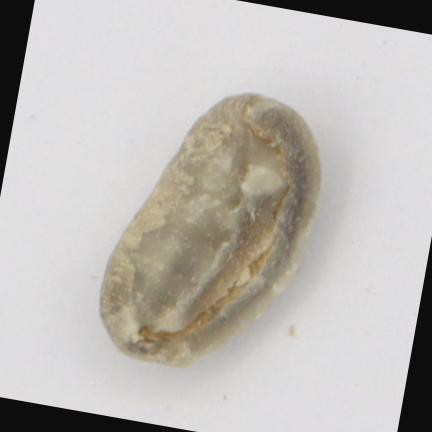broken: (99, 94, 321, 366)
